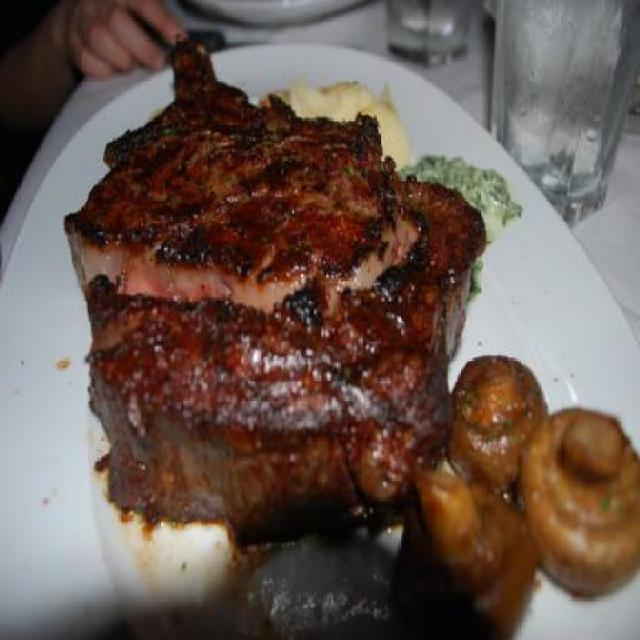Steak: (74, 42, 472, 510)
